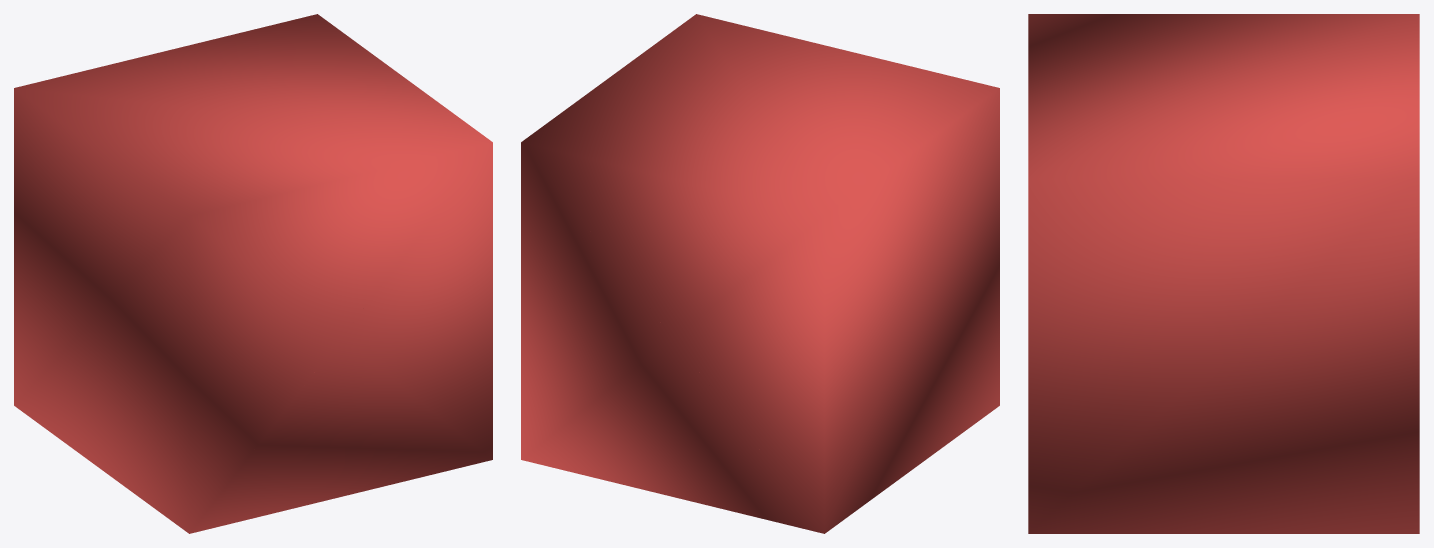
The model's file is expected.gltf.
3 renders of one model, left to right at view 1: azimuth 30°, elevation 25°; view 2: azimuth 150°, elevation 25°; view 3: azimuth 270°, elevation 25°, orthographic. The views are drawn at different scales.
Bounding box in the file's own units: 100 × 100 × 100.
